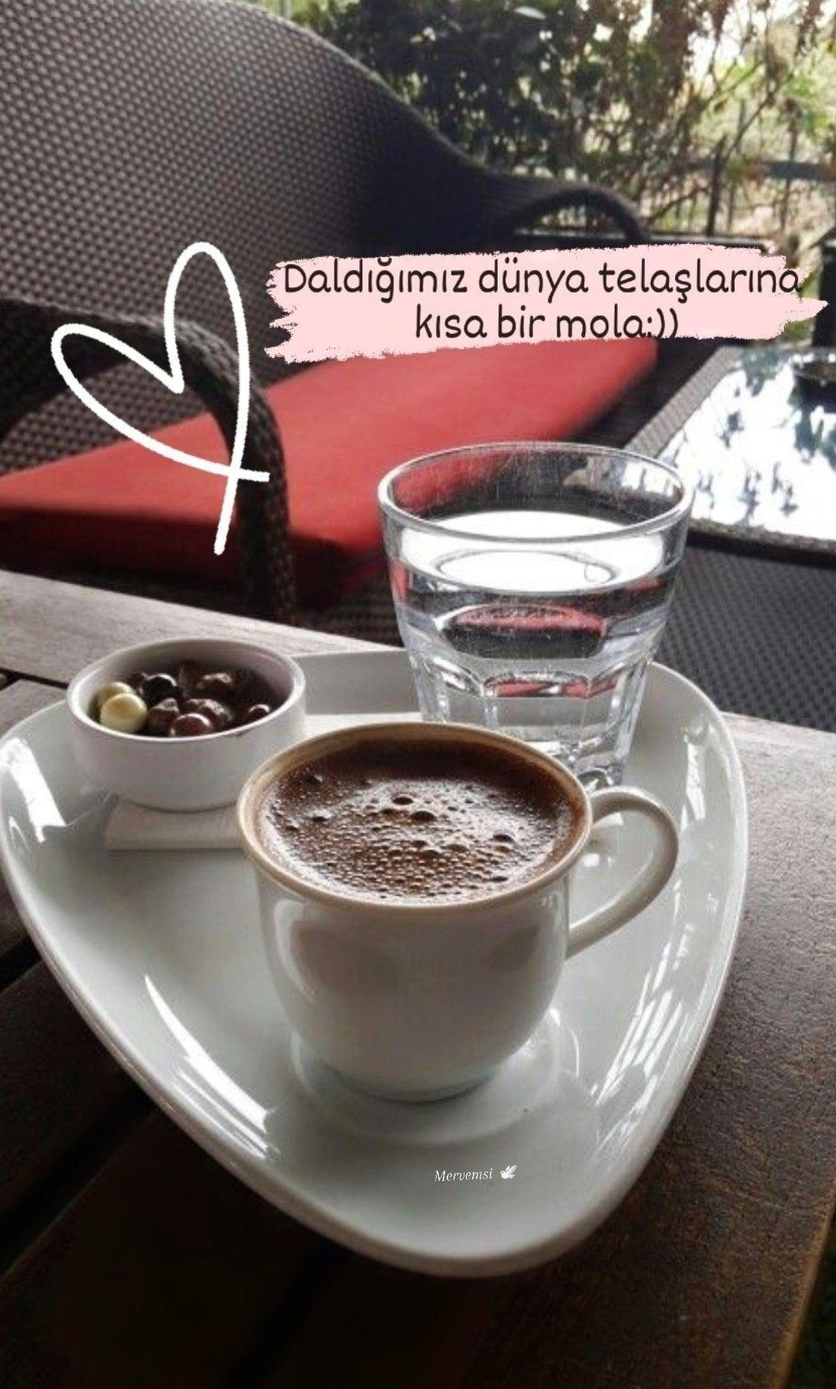cup-handle: (231, 718, 680, 1104)
glass-normal: (375, 437, 690, 794)
